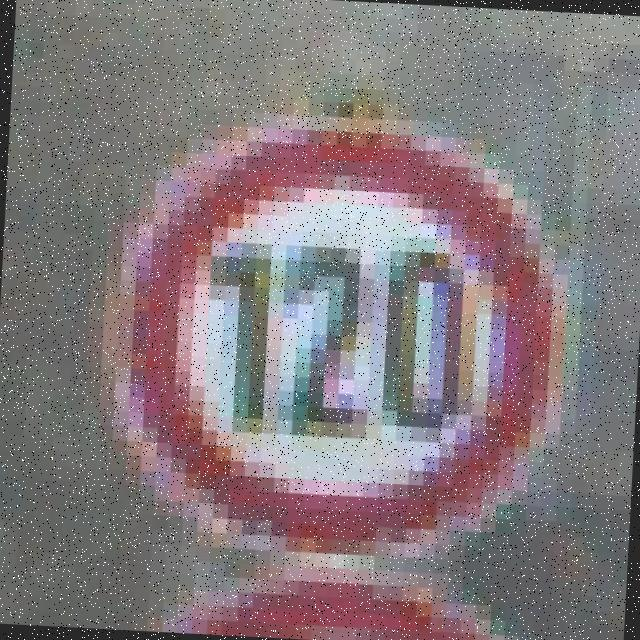Ograniczenie predkosci do 120: (115, 119, 574, 562)
